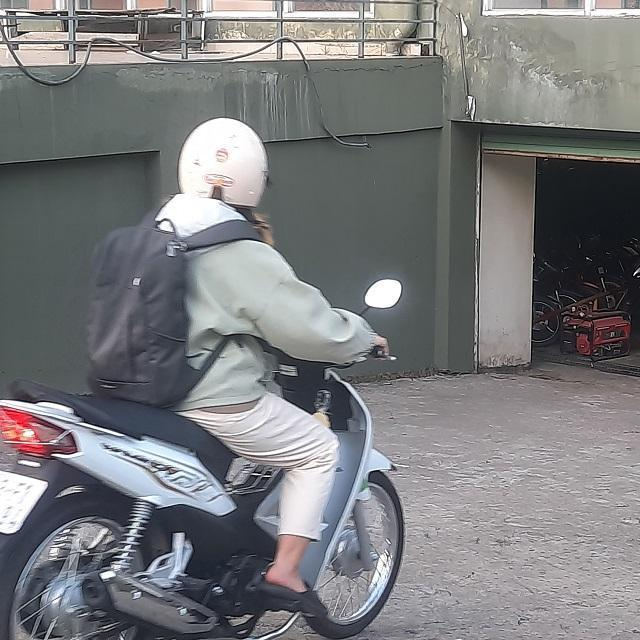Helmet: (179, 112, 269, 216)
